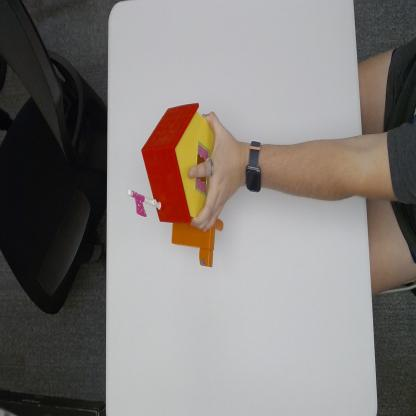Arm: (265, 135, 368, 205)
Hand: (191, 112, 242, 228)
House: (128, 100, 218, 268)
